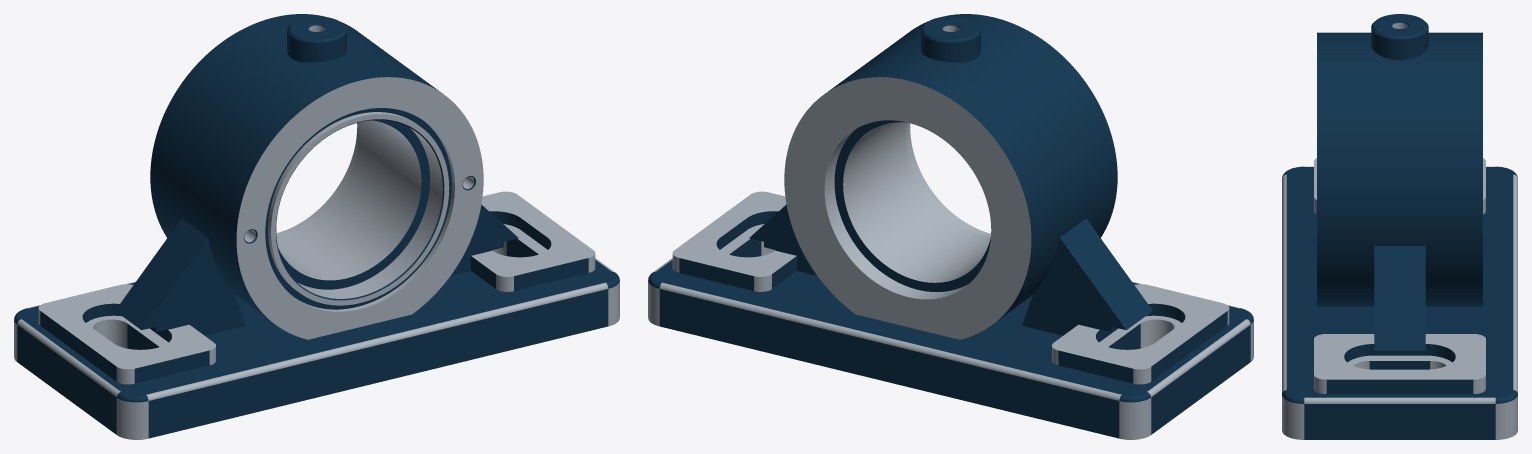
3 views of the same model, side by side, from view 1: azimuth 30°, elevation 25°; view 2: azimuth 150°, elevation 25°; view 3: azimuth 270°, elevation 25° (orthographic). The views are drawn at different scales.
Visible parts, largest first — view 1: pilot-bearing-housing; view 2: pilot-bearing-housing; view 3: pilot-bearing-housing.
Boxes of the visible parts, <box> form: pilot-bearing-housing: <box>14,14,619,439</box>; pilot-bearing-housing: <box>648,14,1253,439</box>; pilot-bearing-housing: <box>1282,14,1517,439</box>.
Bounding box in the file's own units: 0.174 × 0.103 × 0.074.
